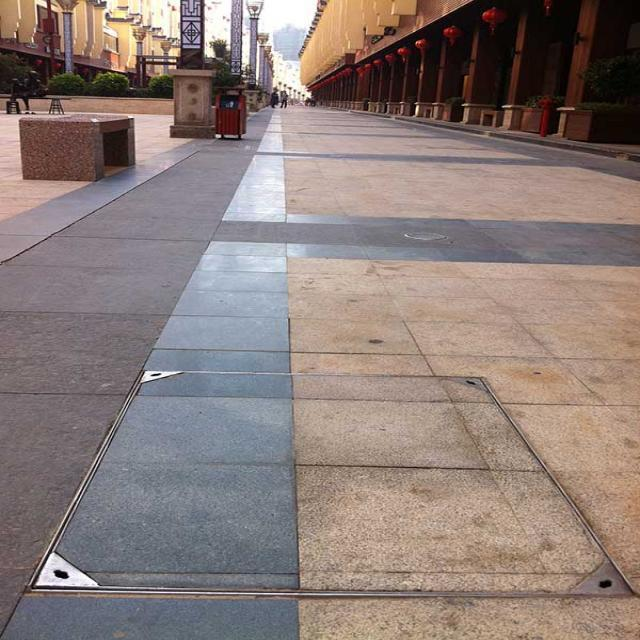manhole: (23, 366, 603, 593)
